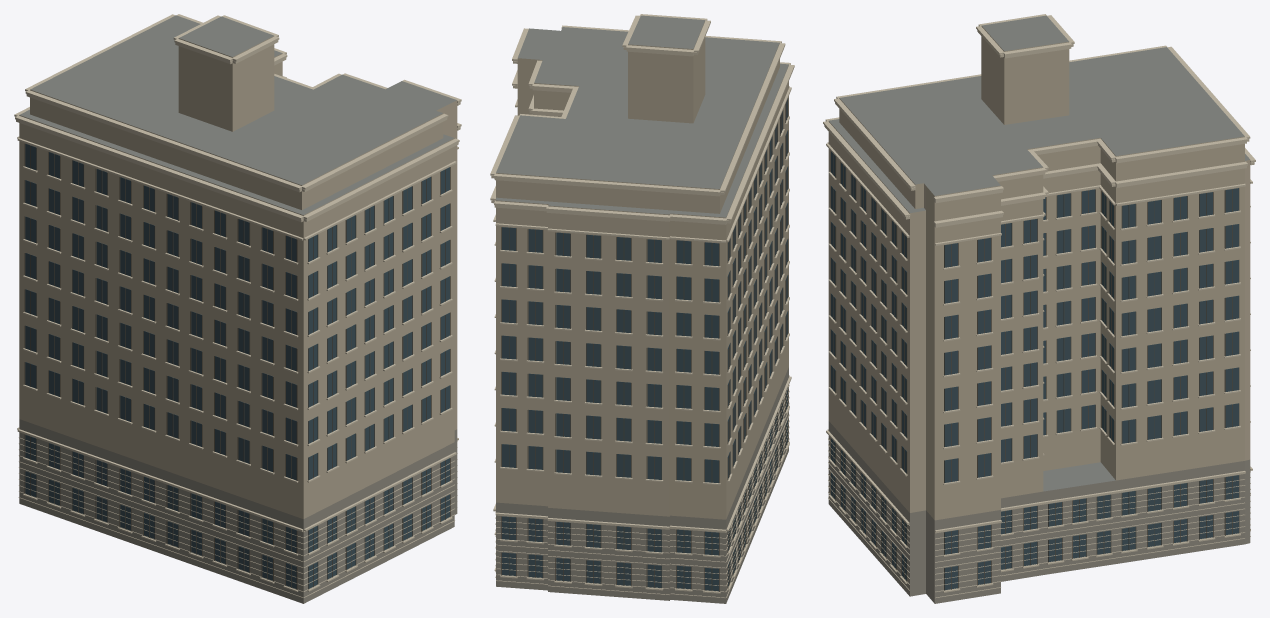
The model's file is swann-house.glb.
The picture shows the model from 3 angles, left to right: view 1: azimuth 30°, elevation 25°; view 2: azimuth 150°, elevation 25°; view 3: azimuth 270°, elevation 25°; orthographic projection.
Visible parts, largest first — view 1: structure_801838_clean_envelope, swann_windows, swann_stone_details, swann_frames; view 2: structure_801838_clean_envelope, swann_windows, swann_stone_details, swann_frames; view 3: structure_801838_clean_envelope, swann_windows, swann_stone_details, swann_frames.
Boxes of the visible parts, box(x1,y1,x2,y2) form: structure_801838_clean_envelope: box(19, 15, 457, 603); swann_windows: box(25, 143, 449, 588); swann_stone_details: box(14, 14, 461, 597); swann_frames: box(24, 144, 450, 589); structure_801838_clean_envelope: box(496, 15, 788, 603); swann_windows: box(502, 98, 787, 591); swann_stone_details: box(490, 14, 794, 598); swann_frames: box(501, 98, 788, 591); structure_801838_clean_envelope: box(828, 15, 1250, 603); swann_windows: box(831, 151, 1238, 590); swann_stone_details: box(823, 14, 1255, 598); swann_frames: box(830, 150, 1239, 590).
Bounding box in the file's own units: 34.41 × 49 × 39.91.
